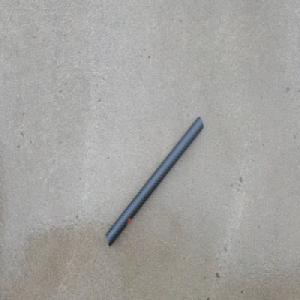LuggagePart: (105, 116, 203, 248)
